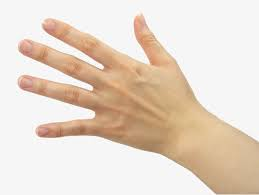hand: (2, 6, 215, 167)
